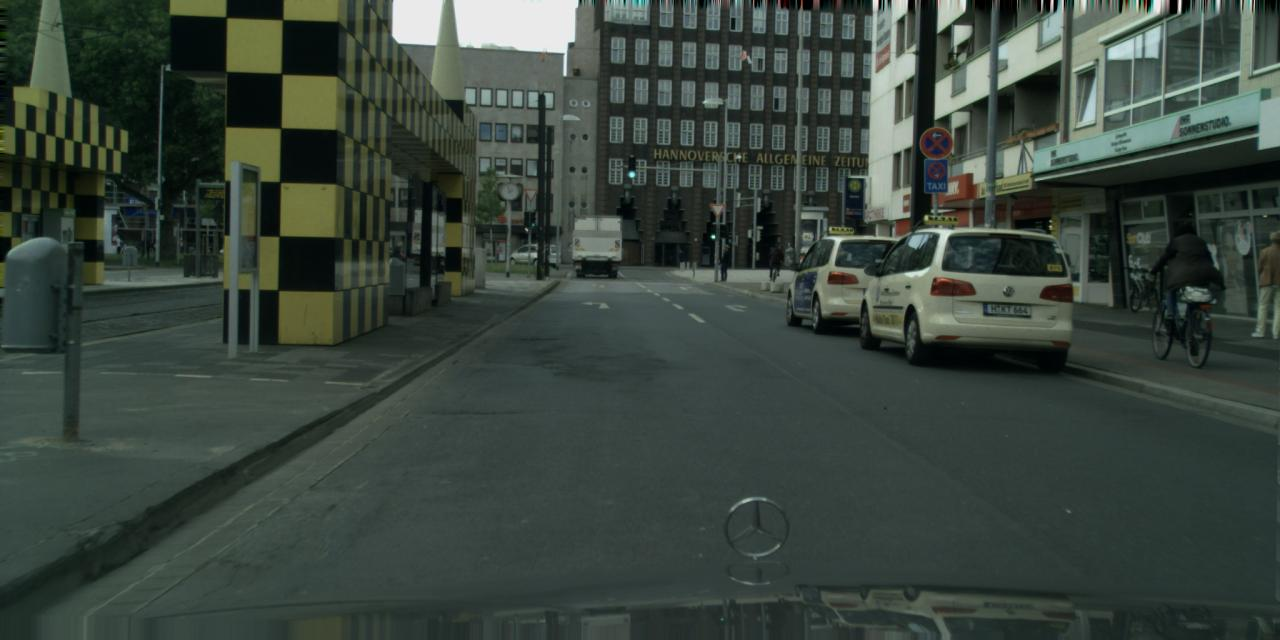ped: (1162, 220, 1208, 334), (1250, 230, 1278, 338), (717, 243, 732, 280), (768, 244, 782, 278), (393, 241, 405, 271), (141, 236, 150, 258), (677, 249, 684, 269), (115, 236, 122, 253)
